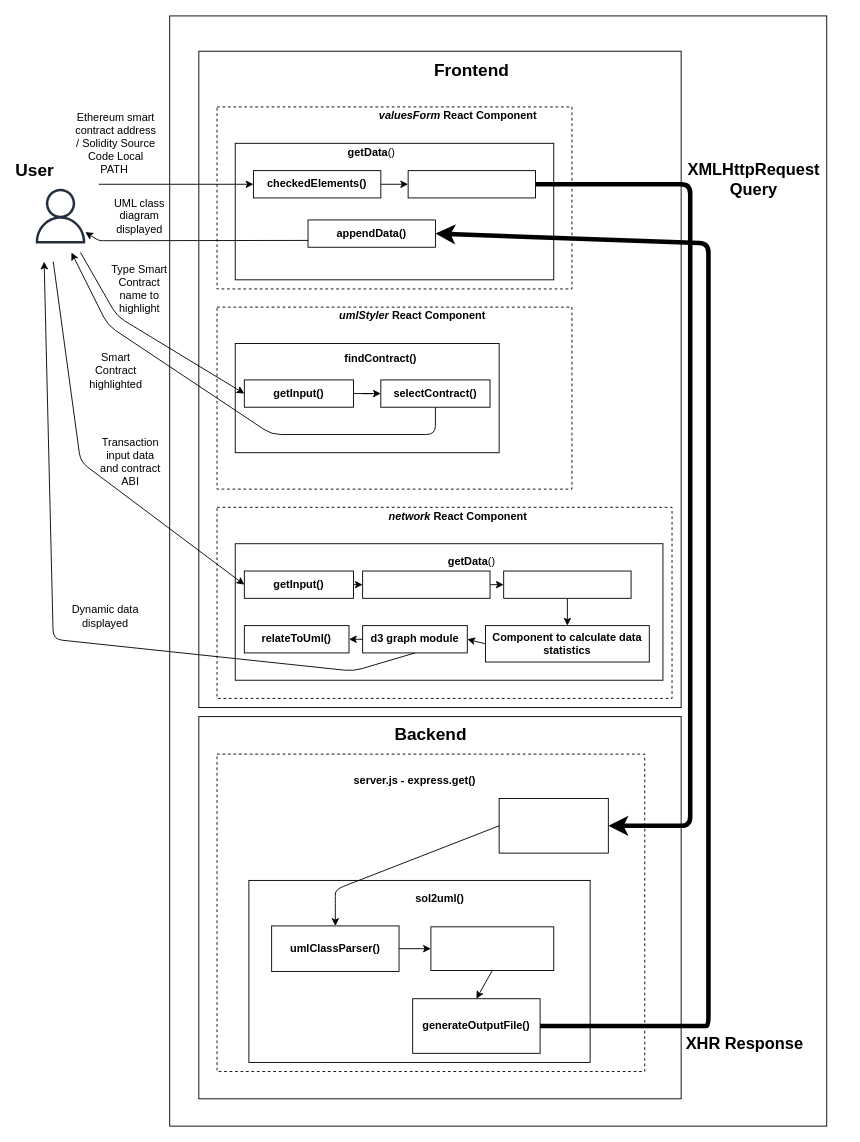
This 860x1142 diagram has some shape labels left out. The centre of each missing label's shape, as x and y in pixels:
"createQuery()" belongs at (471,184).
"d3.csv(_inputData)" belongs at (567,584).
"getAbi()" belongs at (426,584).
"modifyUml()" belongs at (492,948).
"readQuery()" belongs at (553,825).
